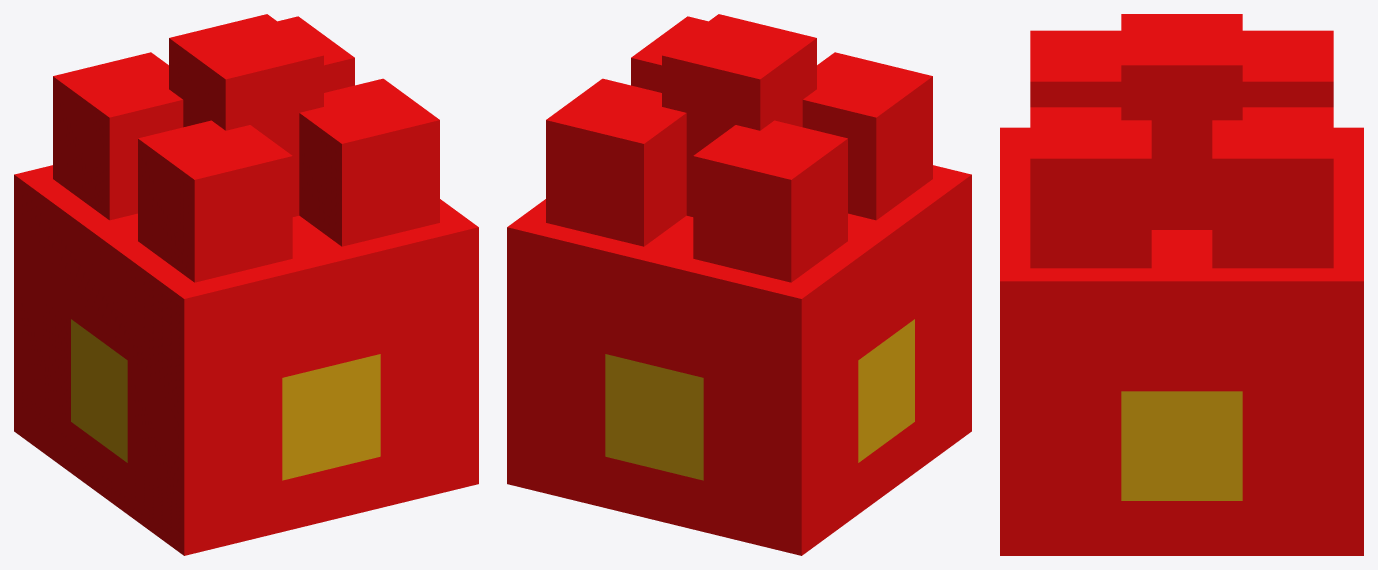
Rendered from Fireball.fbx.
3 renders of one model, left to right at view 1: azimuth 30°, elevation 25°; view 2: azimuth 150°, elevation 25°; view 3: azimuth 270°, elevation 25°, orthographic. The views are drawn at different scales.
Parts seen in each view (by area): view 1: Cube.004, Cube.008, Cube.010, Cube.011, Cube.002, Cube.015, Cube.013, Cube.003, Cube.005, Cube.006, Cube.007, Cube.012; view 2: Cube.004, Cube.008, Cube.013, Cube.012, Cube.006, Cube.015, Cube.010, Cube.001, Cube.009, Cube.002, Cube.007, Cube.011; view 3: Cube.004, Cube.008, Cube.015, Cube.011, Cube.012, Cube.005, Cube.007, Cube.001, Cube.010, Cube.013.
Boxes of the visible parts, x1,y1,x2,y2 form: Cube.004: (14,165,478,401); Cube.008: (14,380,478,555); Cube.010: (138,120,292,282); Cube.011: (299,78,439,246); Cube.002: (127,361,282,504); Cube.015: (169,14,323,216); Cube.013: (53,52,183,220); Cube.003: (282,354,380,480); Cube.005: (380,330,478,456); Cube.006: (14,277,70,421); Cube.007: (71,319,127,462); Cube.012: (277,16,354,92); Cube.004: (507,165,971,401); Cube.008: (507,380,971,555); Cube.013: (693,120,847,282); Cube.012: (546,78,686,246); Cube.006: (703,361,858,504); Cube.015: (662,14,816,216); Cube.010: (802,52,932,220); Cube.001: (507,330,605,456); Cube.009: (605,354,703,480); Cube.002: (915,277,971,421); Cube.007: (858,319,914,462); Cube.011: (631,16,708,92); Cube.004: (1000,127,1363,391); Cube.008: (1000,501,1363,555); Cube.015: (1121,14,1242,229); Cube.011: (1030,107,1151,268); Cube.012: (1212,107,1333,268); Cube.005: (1000,391,1121,500); Cube.007: (1121,391,1242,500); Cube.001: (1242,391,1363,500); Cube.010: (1030,30,1121,107); Cube.013: (1242,30,1333,107).
Bounding box in the file's own units: 120 × 160 × 120.
